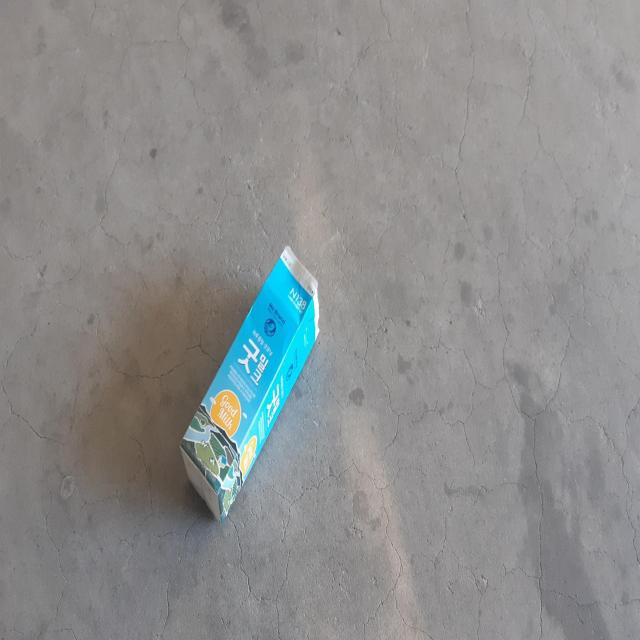paperpack: (180, 245, 319, 521)
